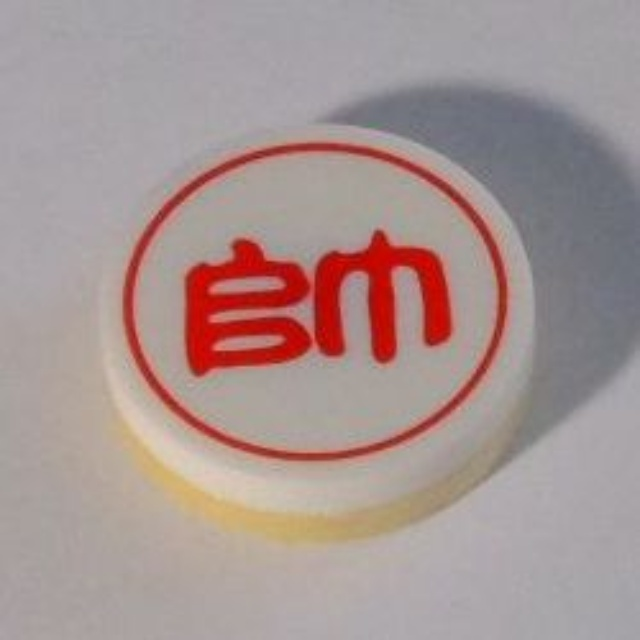red_tuong: (93, 110, 546, 539)
